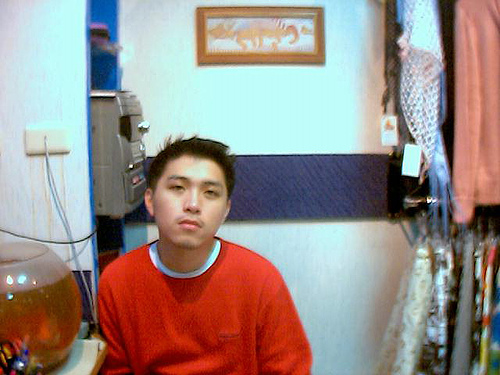without_mask: (140, 136, 246, 251)
